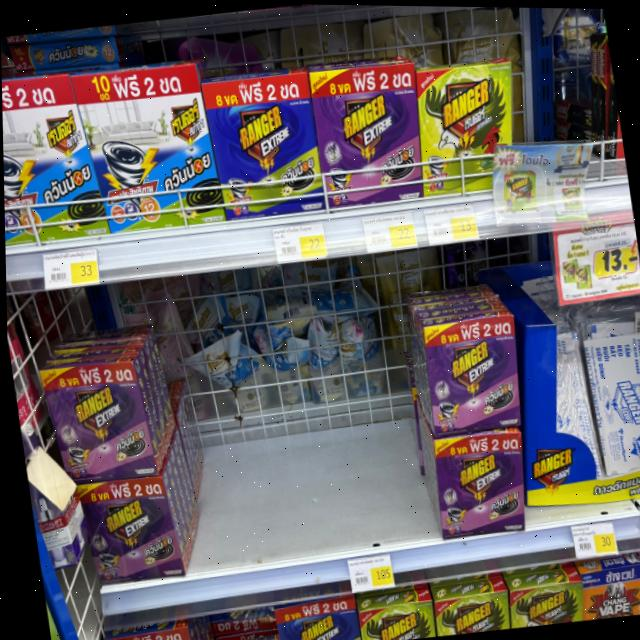empty_shelf: (151, 300, 444, 573), (512, 56, 627, 187), (196, 608, 279, 640)
